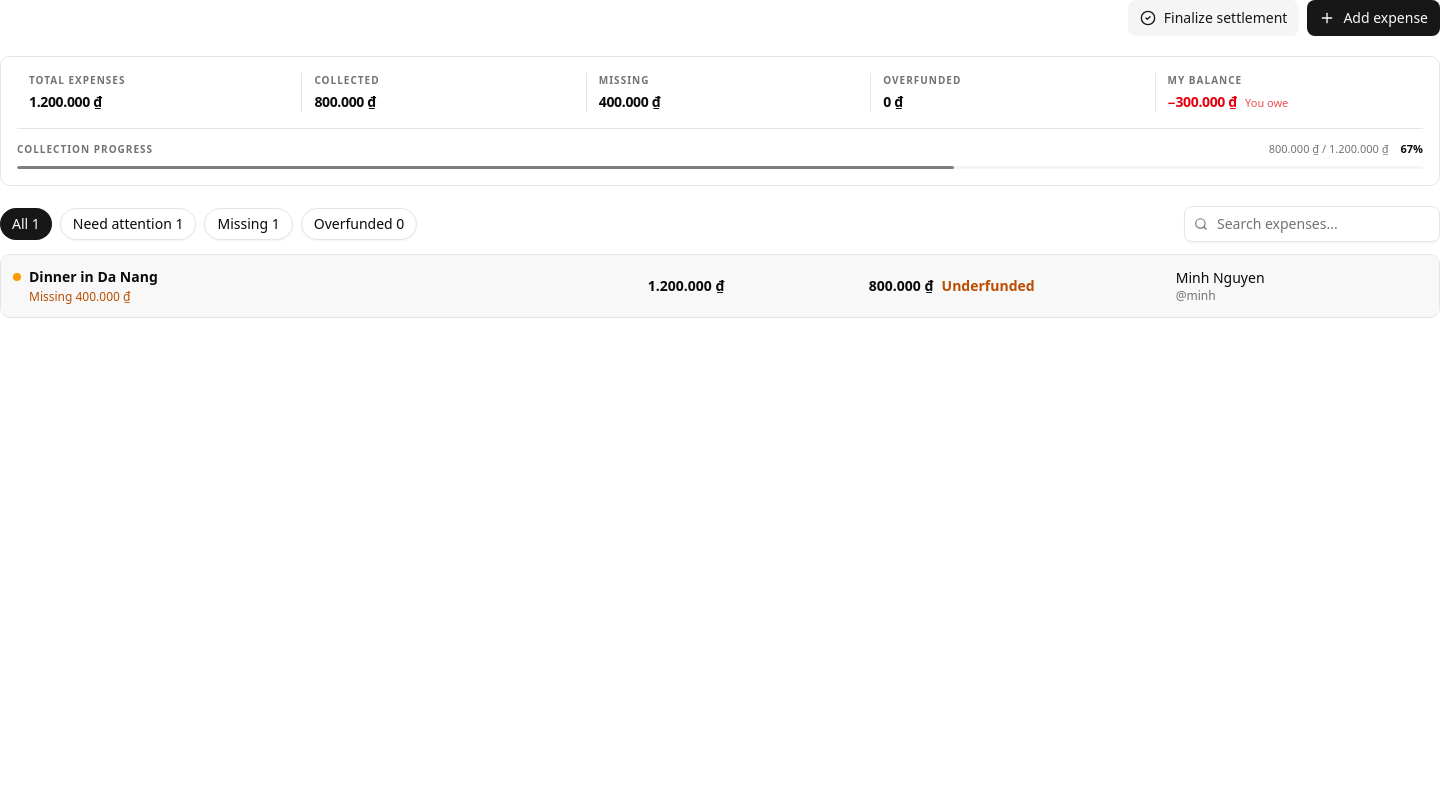
Scenario: ExpensesTab › normalizes comma-grouped VND create input and rejects VND decimal fractions
Click the button "Add expense" at (1374, 18), box [1307,0,1439,36]
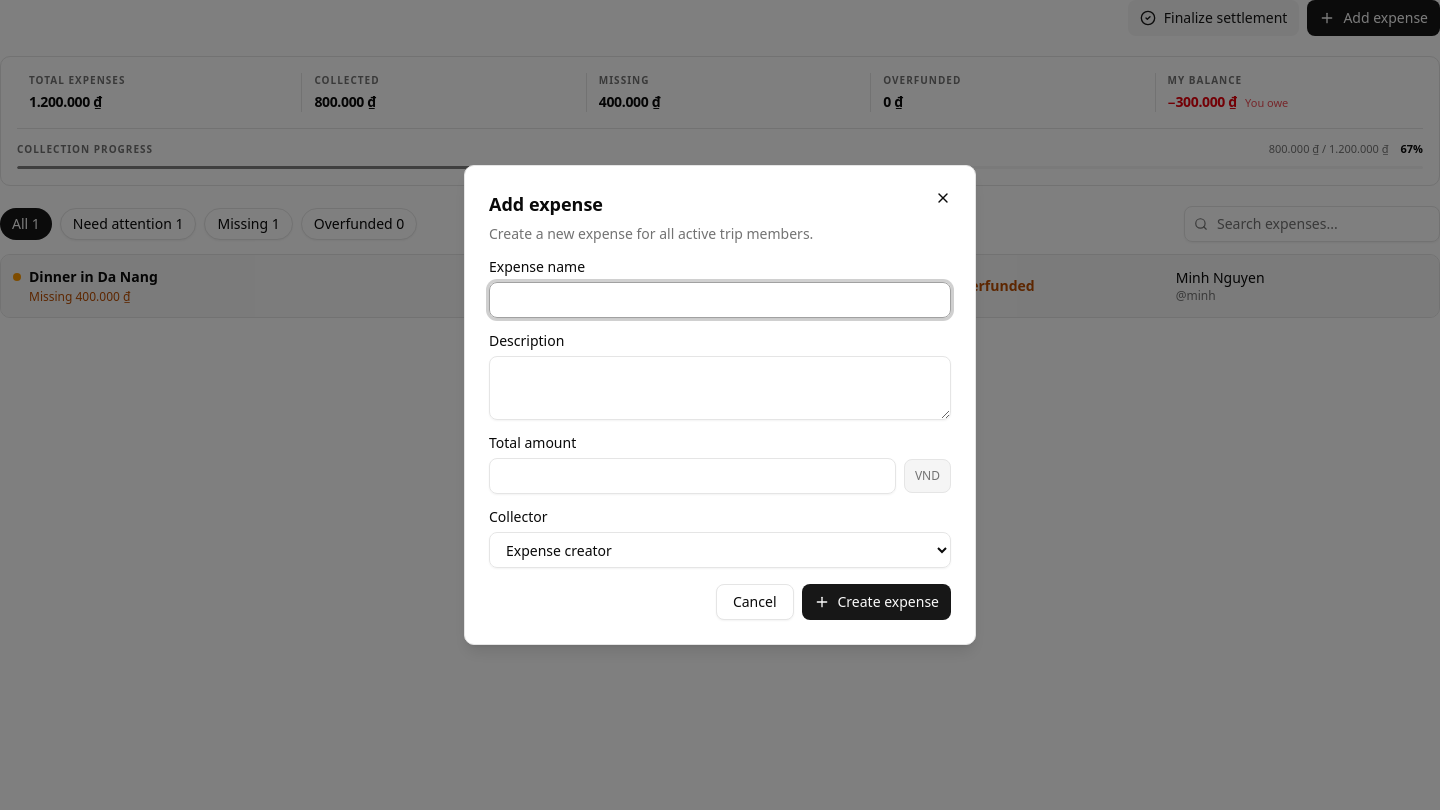
Type "Hotel deposit" into the field labelled "Expense name" at (720, 300), box [489,282,951,318]
Type "1,500,000" into the field labelled "Total amount" at (692, 476), box [489,458,896,494]
Click the button "Create expense" at (876, 602), box [802,584,951,620]
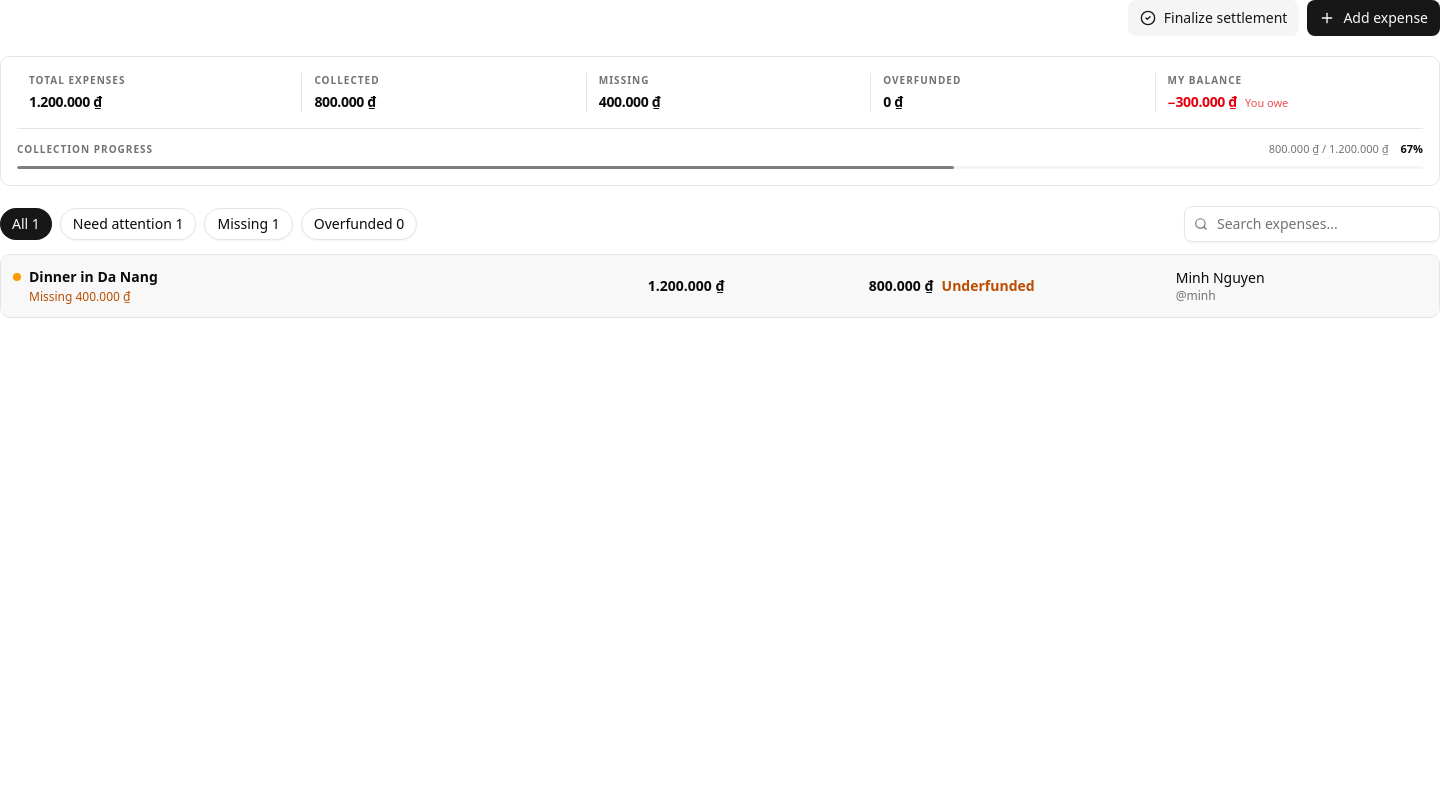
Click the button "Add expense" at (1374, 18), box [1307,0,1439,36]
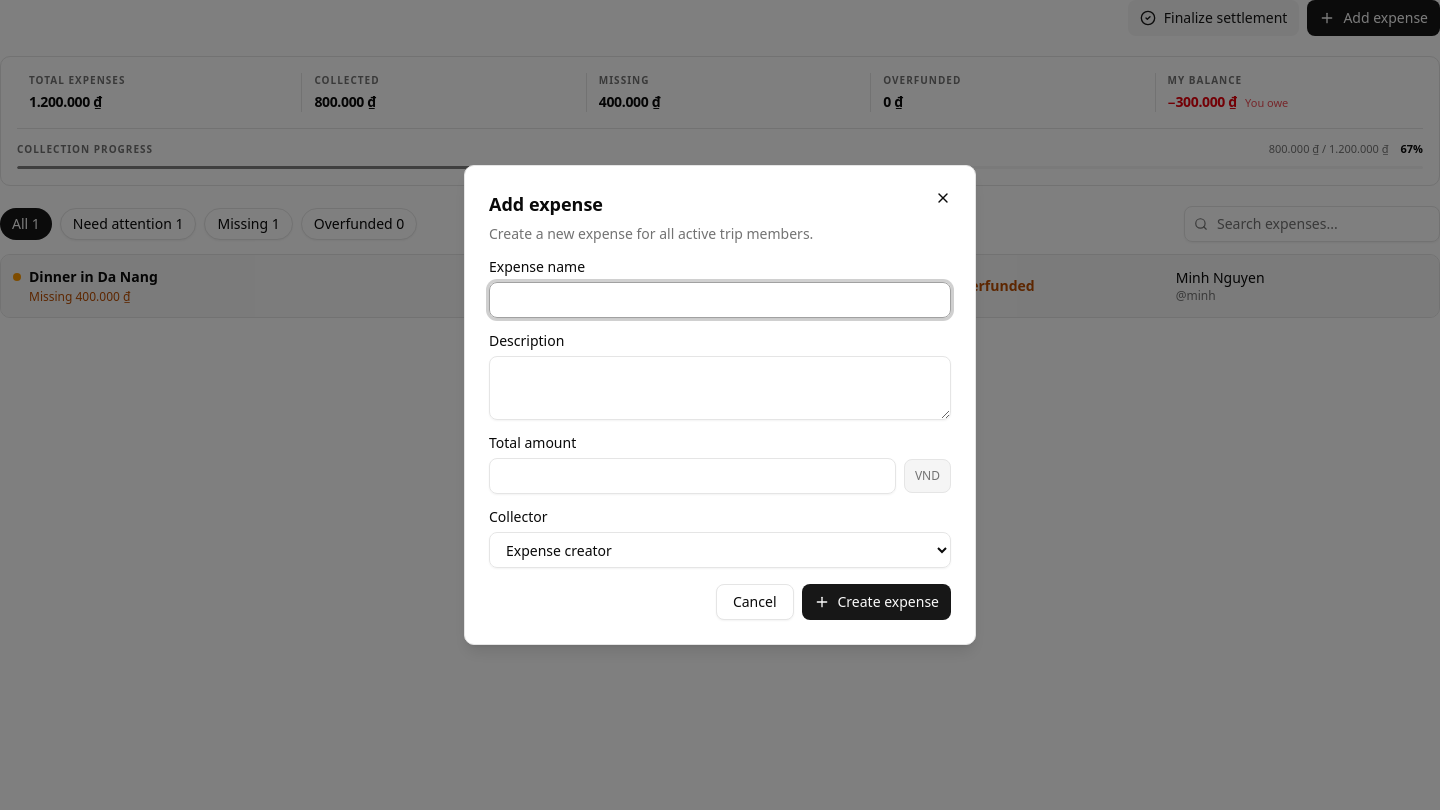
Type "Invalid decimal" into the field labelled "Expense name" at (720, 300), box [489,282,951,318]
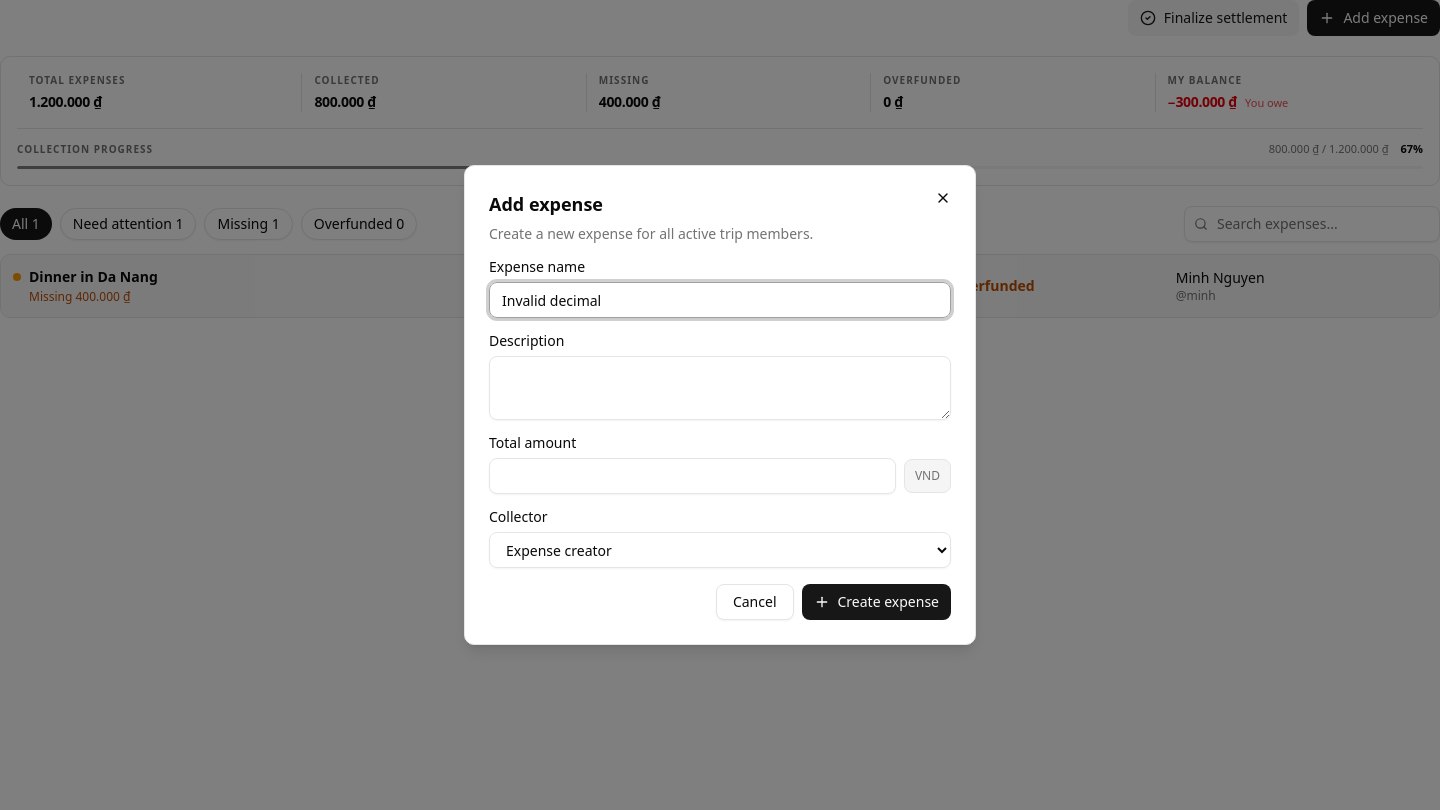
Type "1500000.50" into the field labelled "Total amount" at (692, 476), box [489,458,896,494]
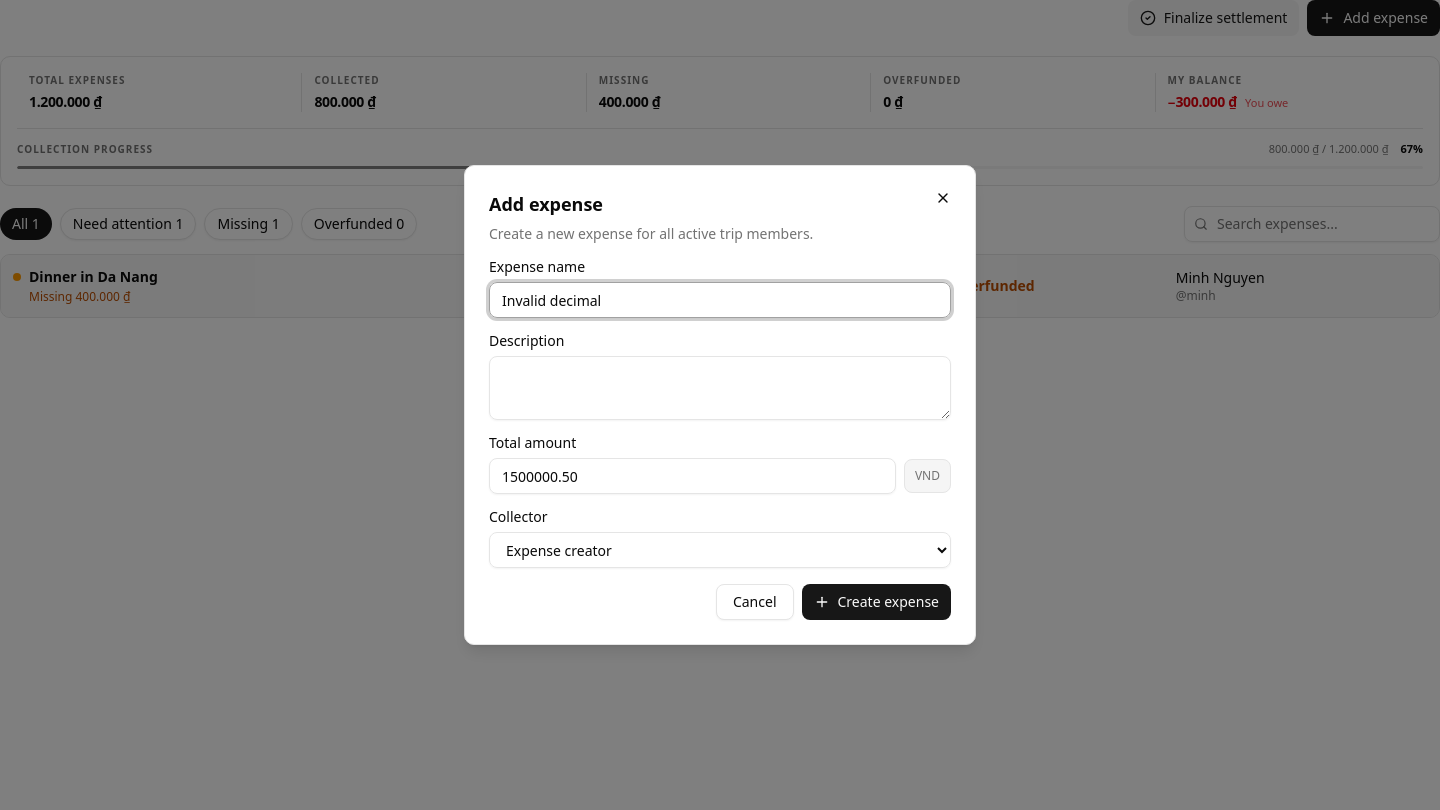
Click the button "Create expense" at (876, 602), box [802,584,951,620]
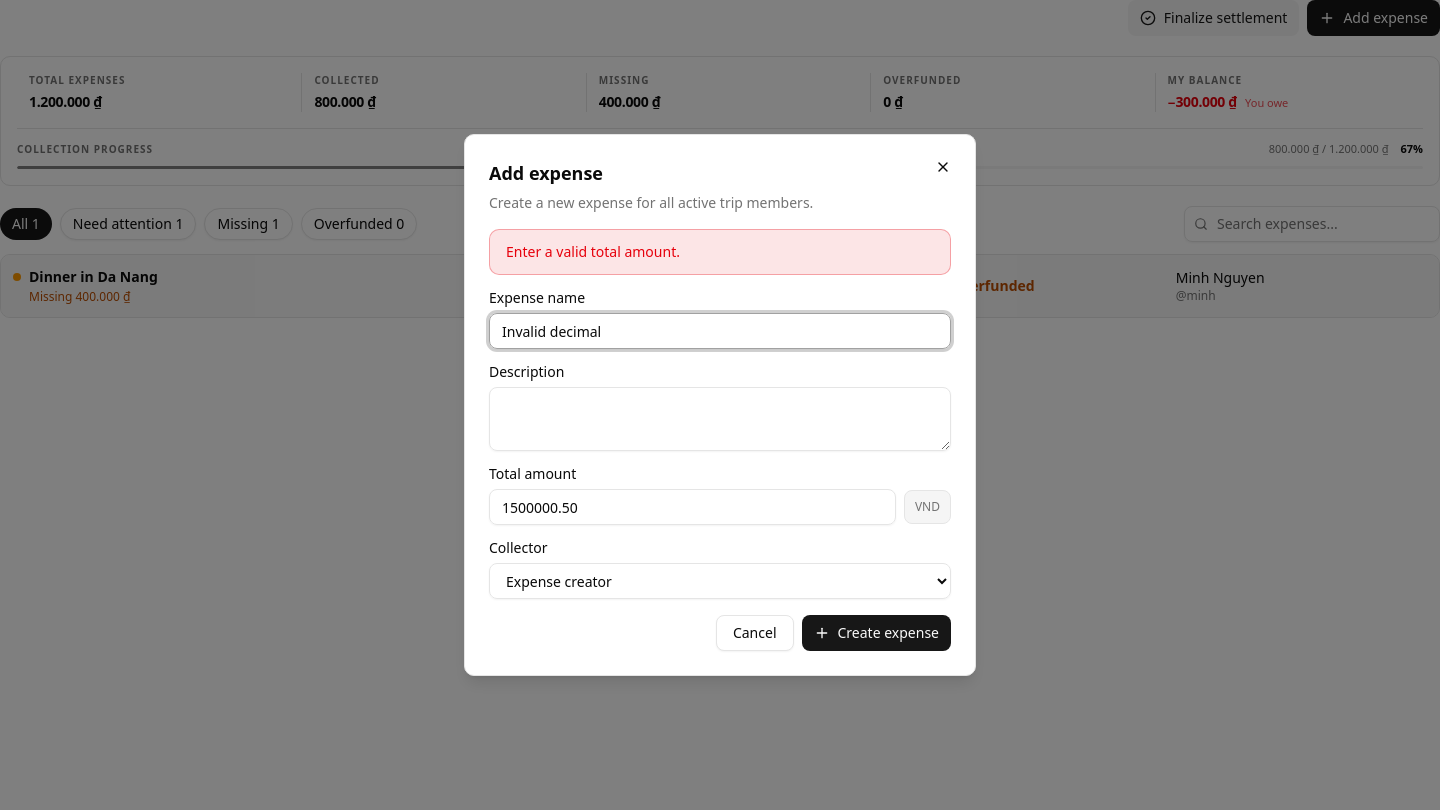
Expected: the text "Enter a valid total amount." is shown, [489,229,951,275]
